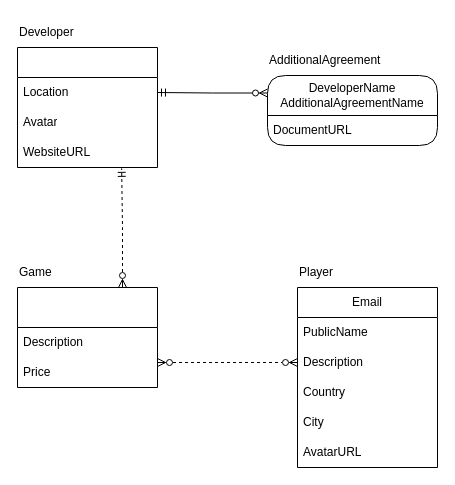
This 455x485 diagram has some shape labels left out. Here are the shapes that lost their labels. From the top down, the box of each, then its label:
(16, 46, 158, 168): DeveloperName
(16, 286, 158, 388): GameName ReleaseDate
